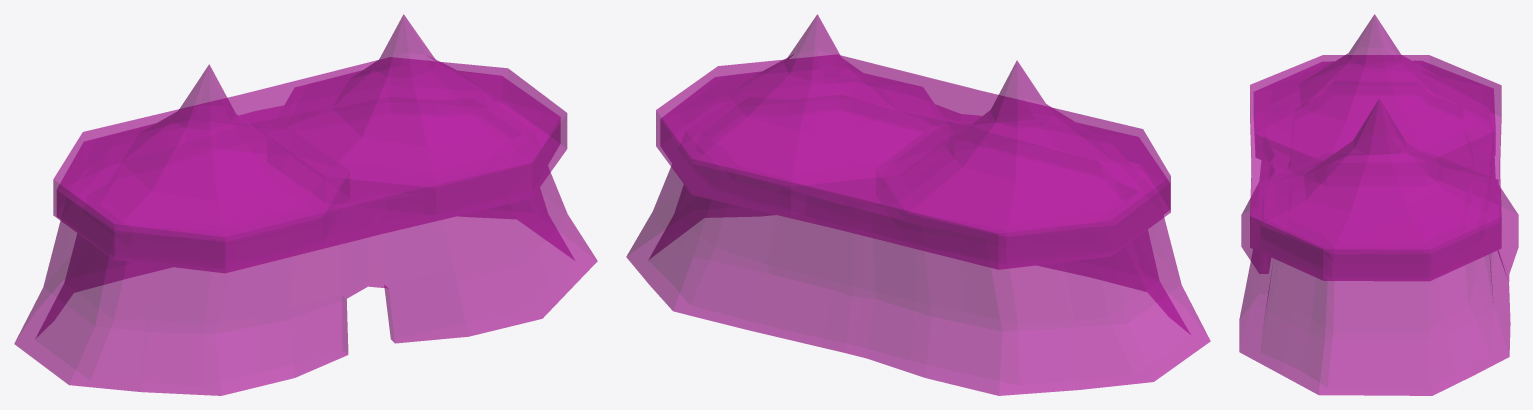
File: SM_Prop_Tent_Large_02_Collision.fbx
The picture shows the model from 3 angles, left to right: view 1: azimuth 30°, elevation 25°; view 2: azimuth 150°, elevation 25°; view 3: azimuth 270°, elevation 25°; orthographic projection. The views are drawn at different scales.
Visible parts, largest first — view 1: SM_Prop_Tent_Large_02_Collision; view 2: SM_Prop_Tent_Large_02_Collision; view 3: SM_Prop_Tent_Large_02_Collision.
Part boxes in pixels (box(x1,y1,x2,y2)): SM_Prop_Tent_Large_02_Collision: box(14, 14, 597, 395); SM_Prop_Tent_Large_02_Collision: box(626, 14, 1210, 395); SM_Prop_Tent_Large_02_Collision: box(1239, 14, 1518, 395).
Size of the model in its own units: 2534 by 1200 by 1331.
